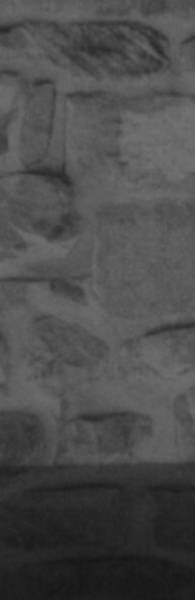water: (0, 464, 195, 600)
